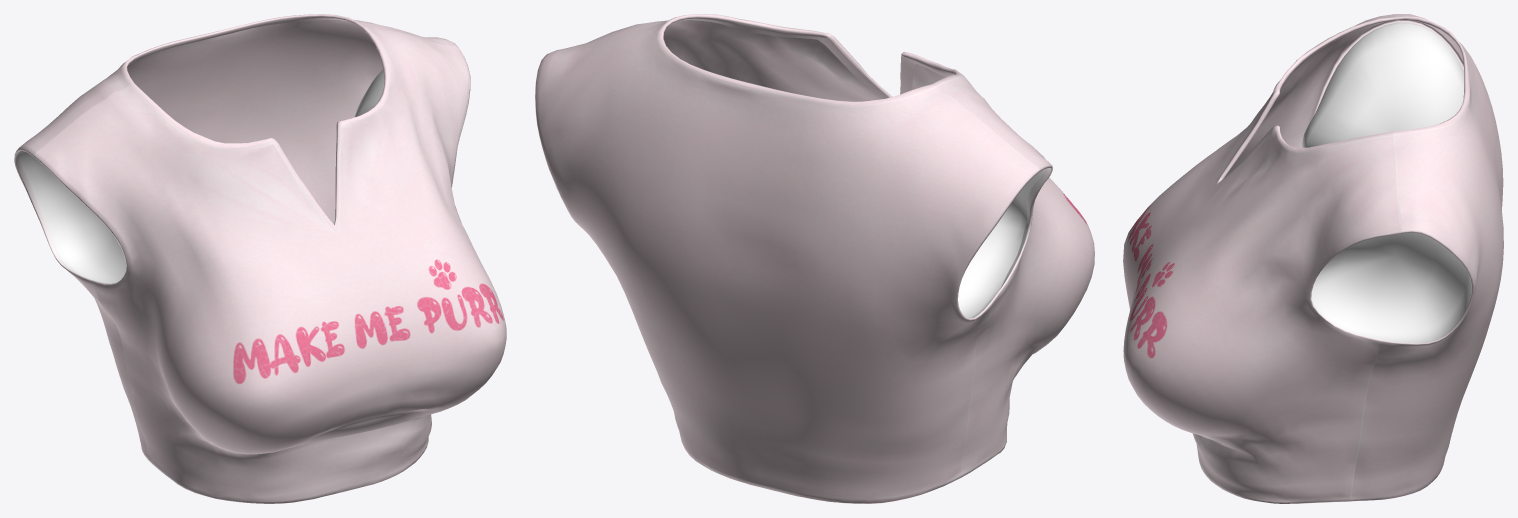
Rendered from crop_top1.glb.
The picture shows the model from 3 angles, left to right: view 1: azimuth 30°, elevation 25°; view 2: azimuth 150°, elevation 25°; view 3: azimuth 270°, elevation 25°; orthographic projection. The views are drawn at different scales.
Visible parts, largest first — view 1: Object_2; view 2: Object_2; view 3: Object_2.
Part boxes in pixels (left/top/right/bottom): Object_2: left=14, top=14, right=506, bottom=503; Object_2: left=535, top=14, right=1094, bottom=503; Object_2: left=1123, top=14, right=1503, bottom=503.
Bounding box in the file's own units: 0.4175 × 0.3454 × 0.315.
1 material, 1 textured.
